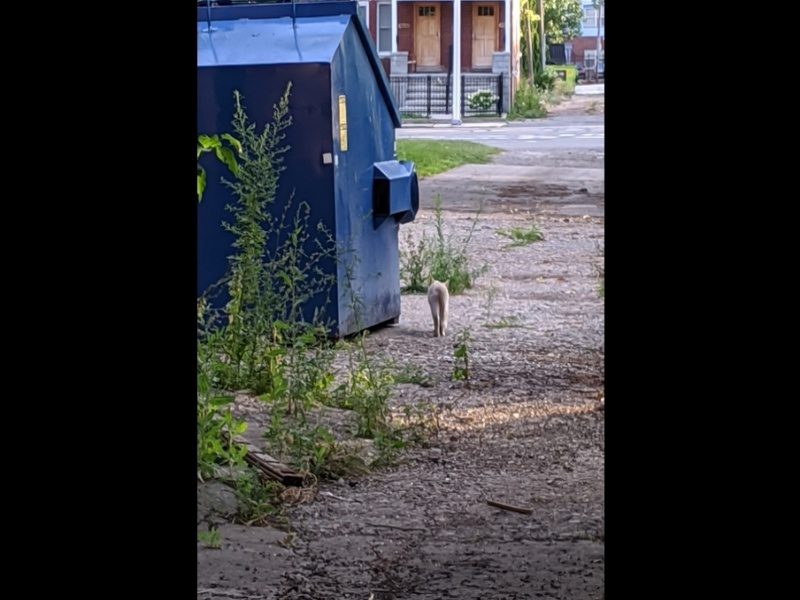cat: (425, 273, 455, 338)
